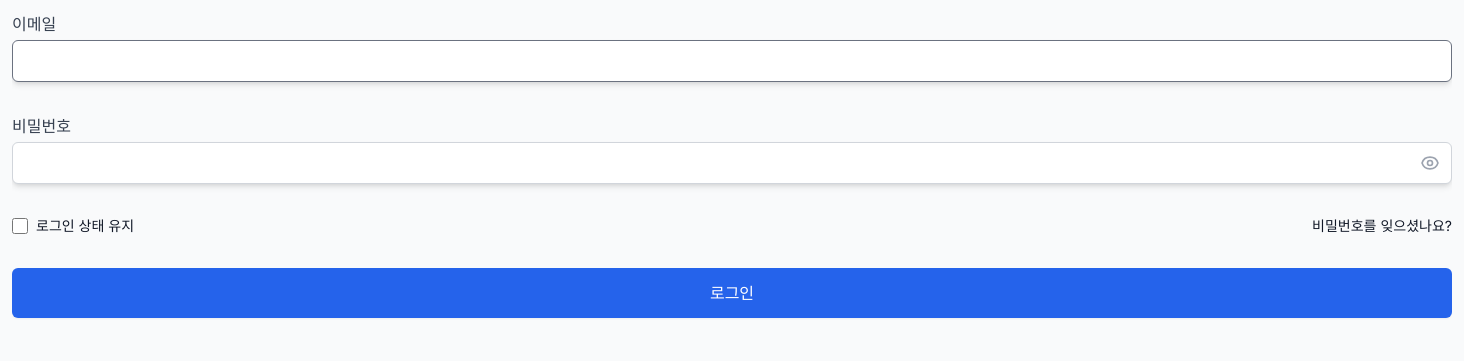
Test: LoginForm › form validation › should show error when password is empty
Type "test@example.com" into the field labelled "이메일" at (732, 61), box [12,40,1452,82]
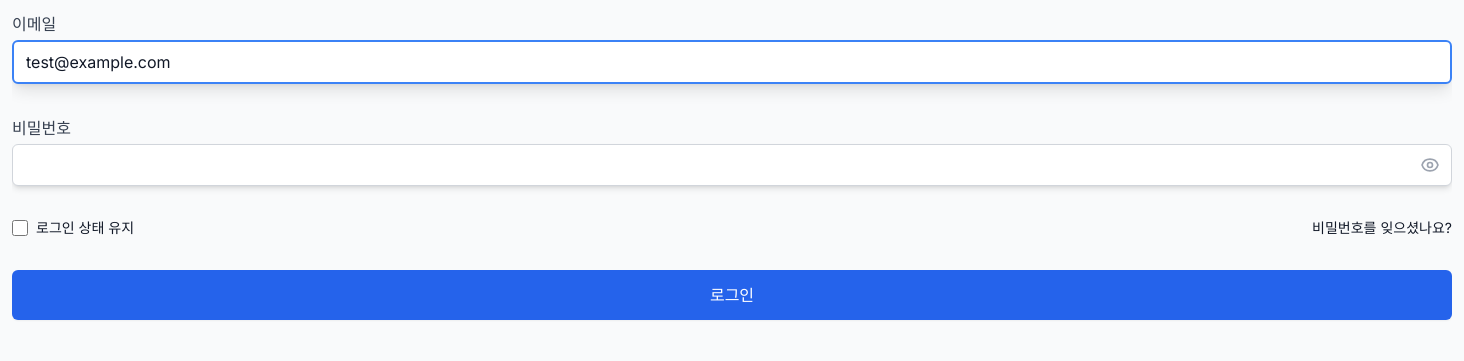
Click the button "로그인" at (732, 295), box [12,270,1452,320]
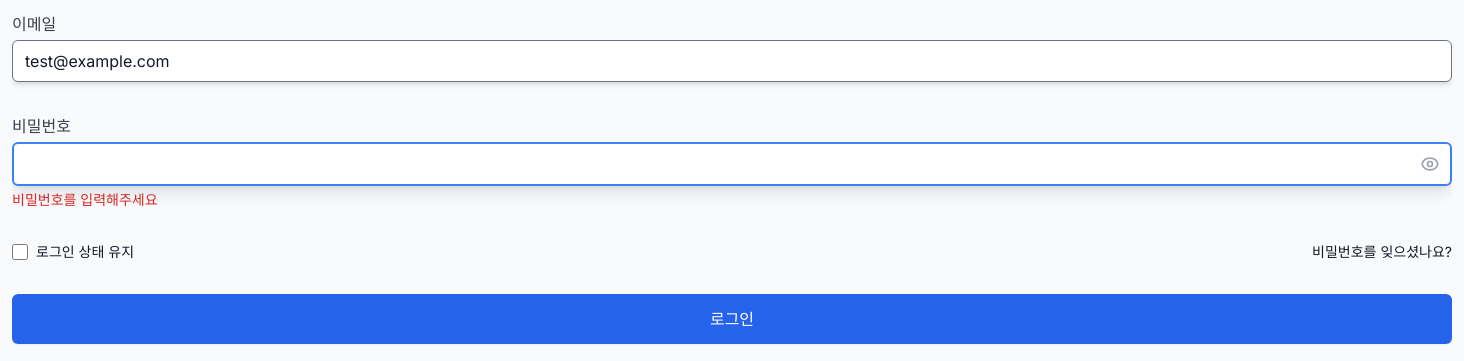
Check: the text "비밀번호를 입력해주세요" is shown, box [12,191,158,208]
